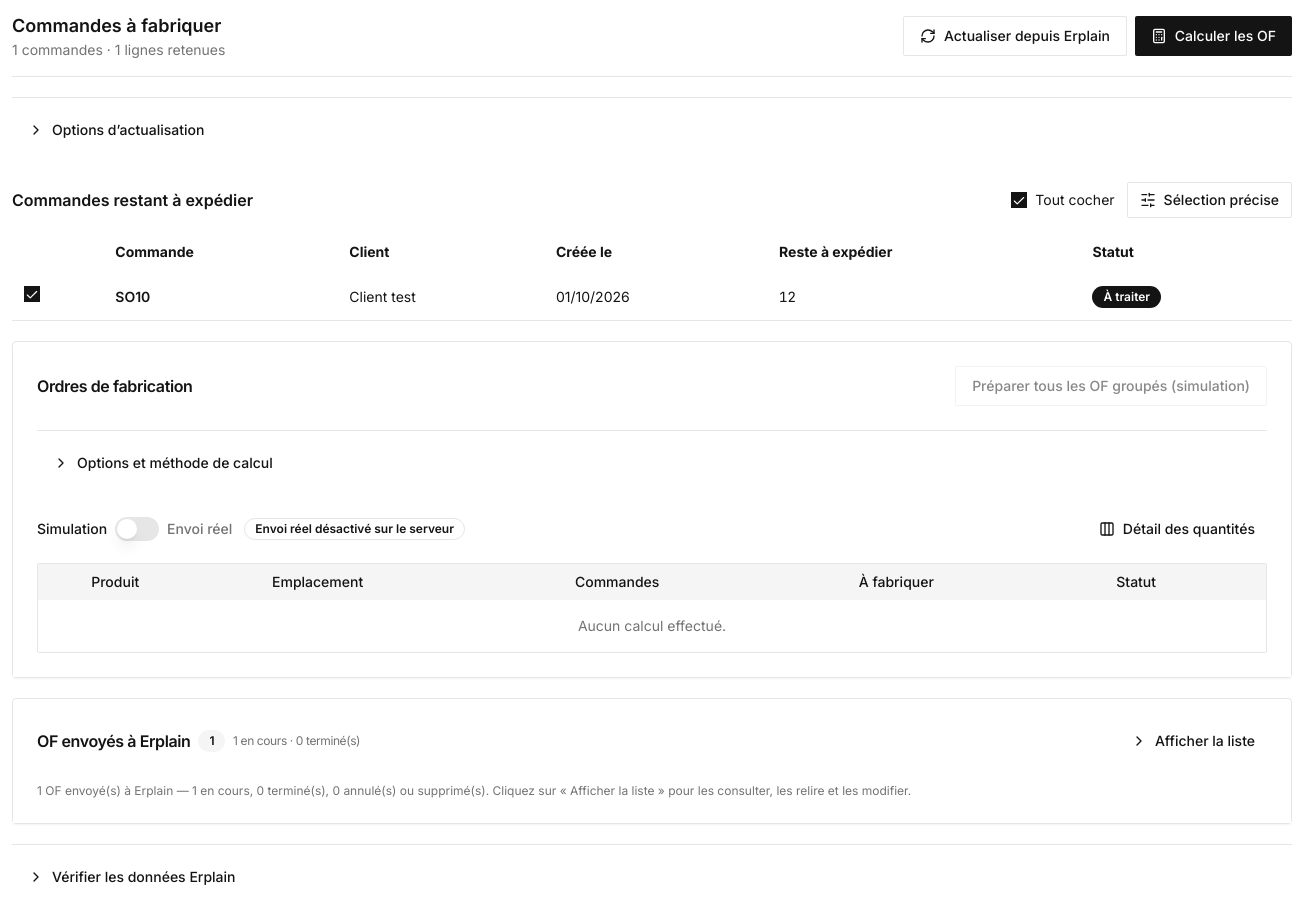
Test: Workshop order columns › selects or clears every order from the compact view
The width and height of the screenshot is (1304, 912).
Expected: the text "Client test" is shown, [337,274,544,320]
Click the checkbox named "Tout cocher". click: (1019, 200)
box: [1011,192,1027,208]
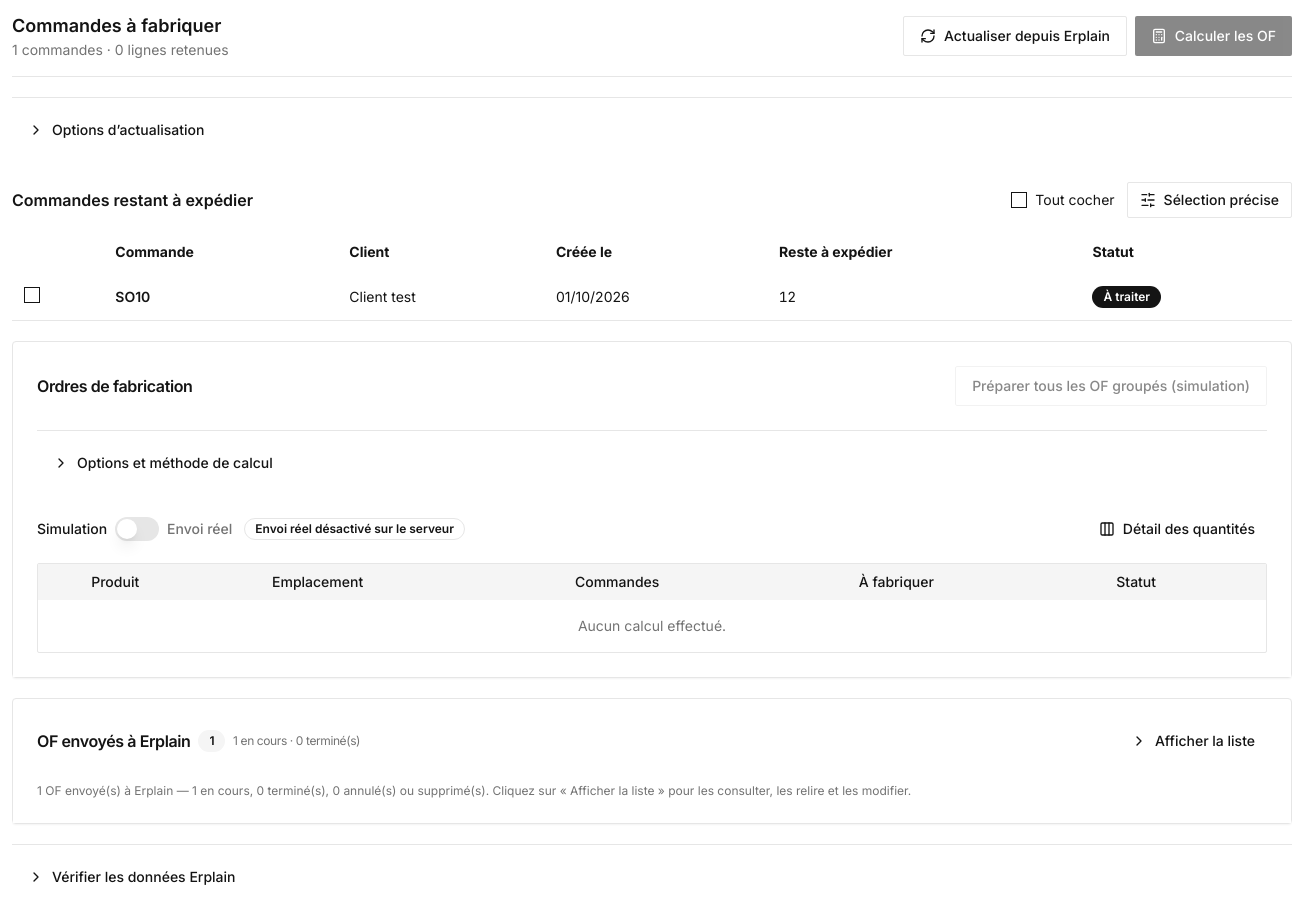
Result: the button "Calculer les OF" is disabled at [1135,16,1292,56]
Click the checkbox named "Tout cocher". click: (1019, 200)
box: [1011,192,1027,208]
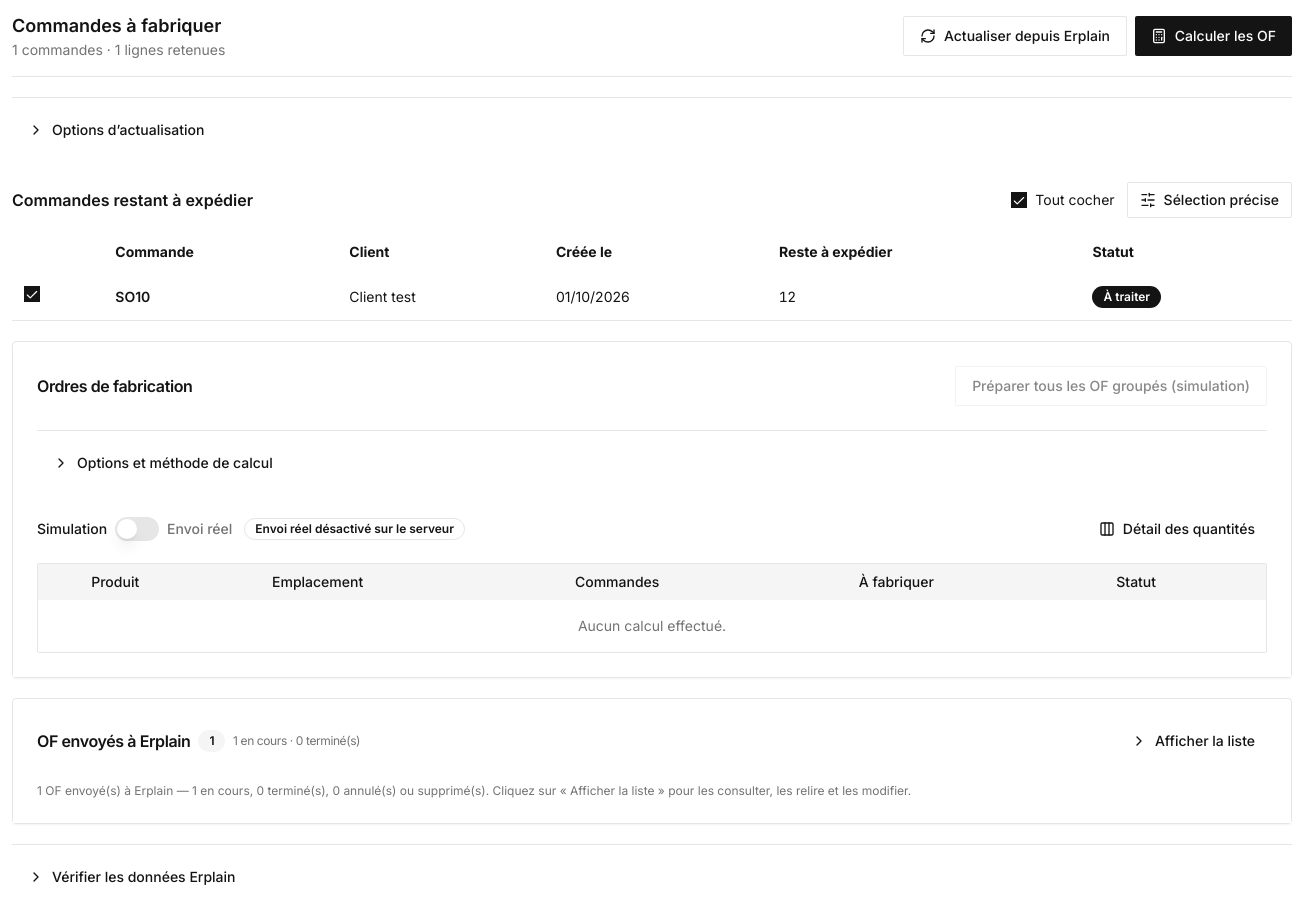
Result: the button "Calculer les OF" is enabled at [1135,16,1292,56]
